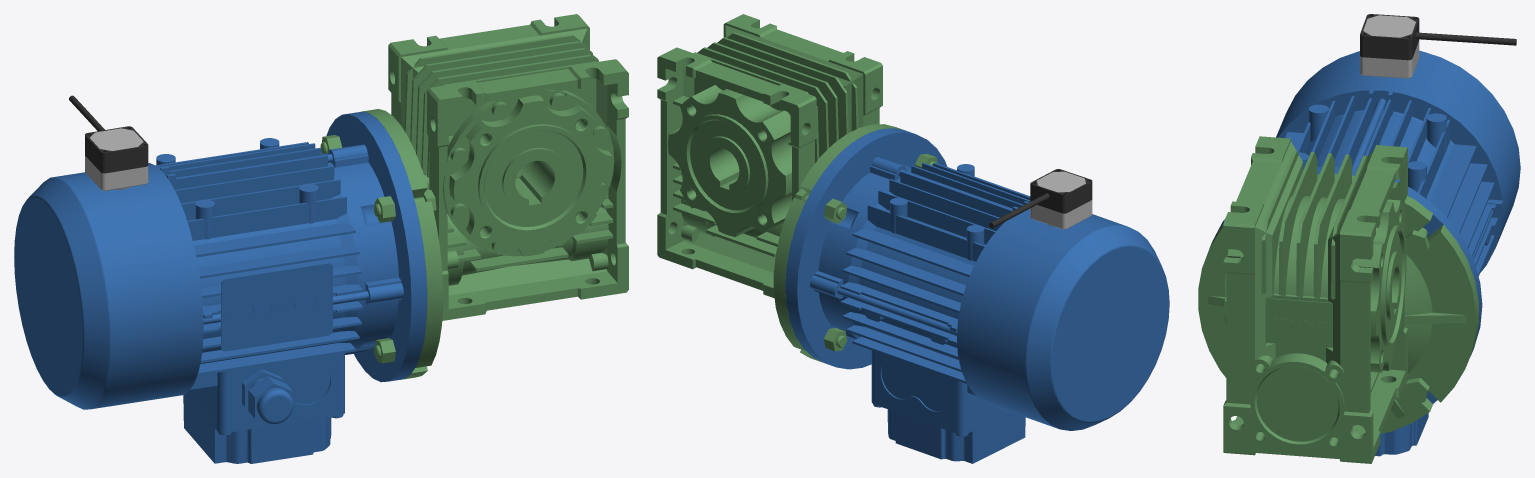
The model's file is Conveyor_Motor.glb.
The picture shows the model from 3 angles, left to right: view 1: azimuth 30°, elevation 25°; view 2: azimuth 150°, elevation 25°; view 3: azimuth 270°, elevation 25°; orthographic projection. The views are drawn at different scales.
Size of the model in its own units: 0.3609 by 0.2225 by 0.1825.
